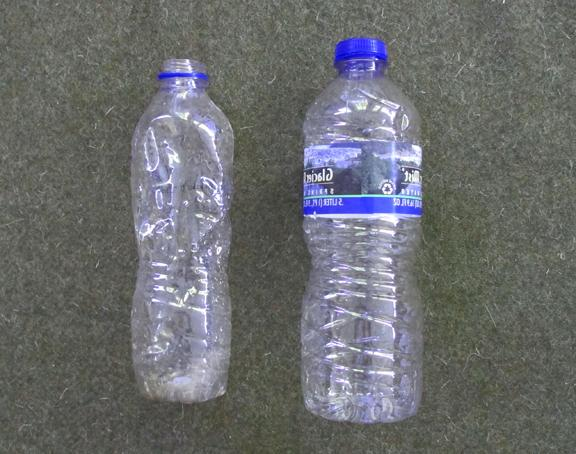Plastic: (303, 38, 421, 421), (130, 58, 233, 403)
